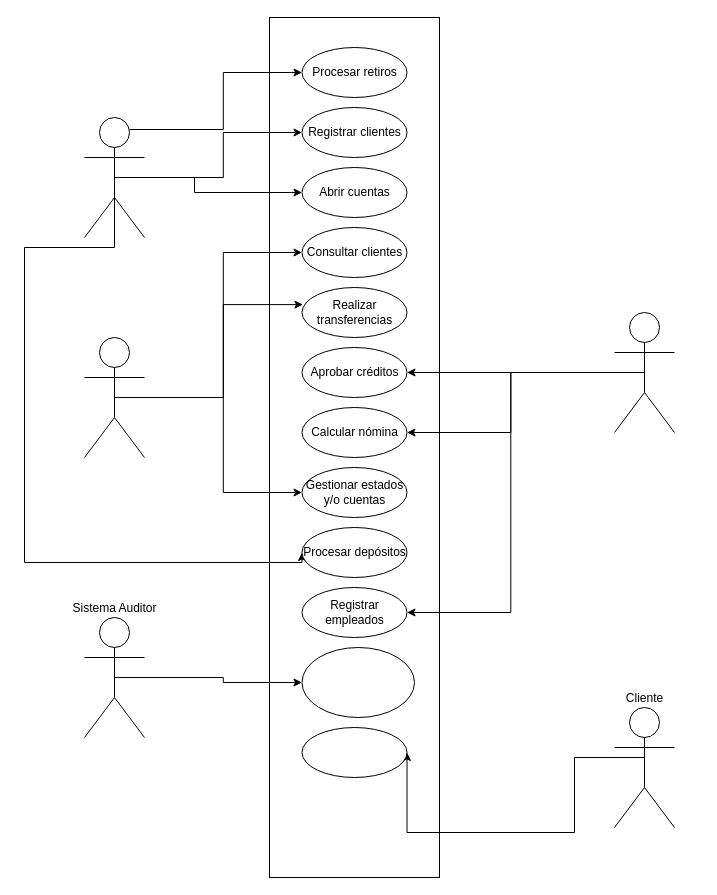
Image size: 717x895. Some labels were removed from this diagram. The centre of each missing label's shape, as x and y in pixels:
"Asesor Financiero" goes at pixel 114 397.
"Cajero" goes at pixel 114 177.
"Consultar historial de modificaciones" goes at pixel 357 682.
"Gerente de Sucursal" goes at pixel 644 372.
"Recibir notificaciones" goes at pixel 354 752.
